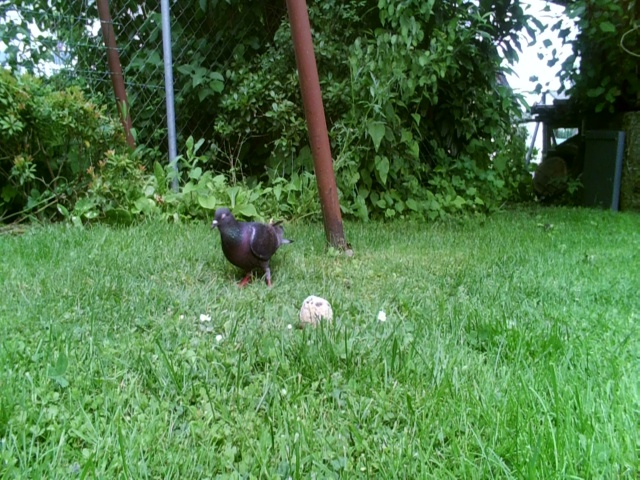Pigeon: (195, 191, 292, 286)
